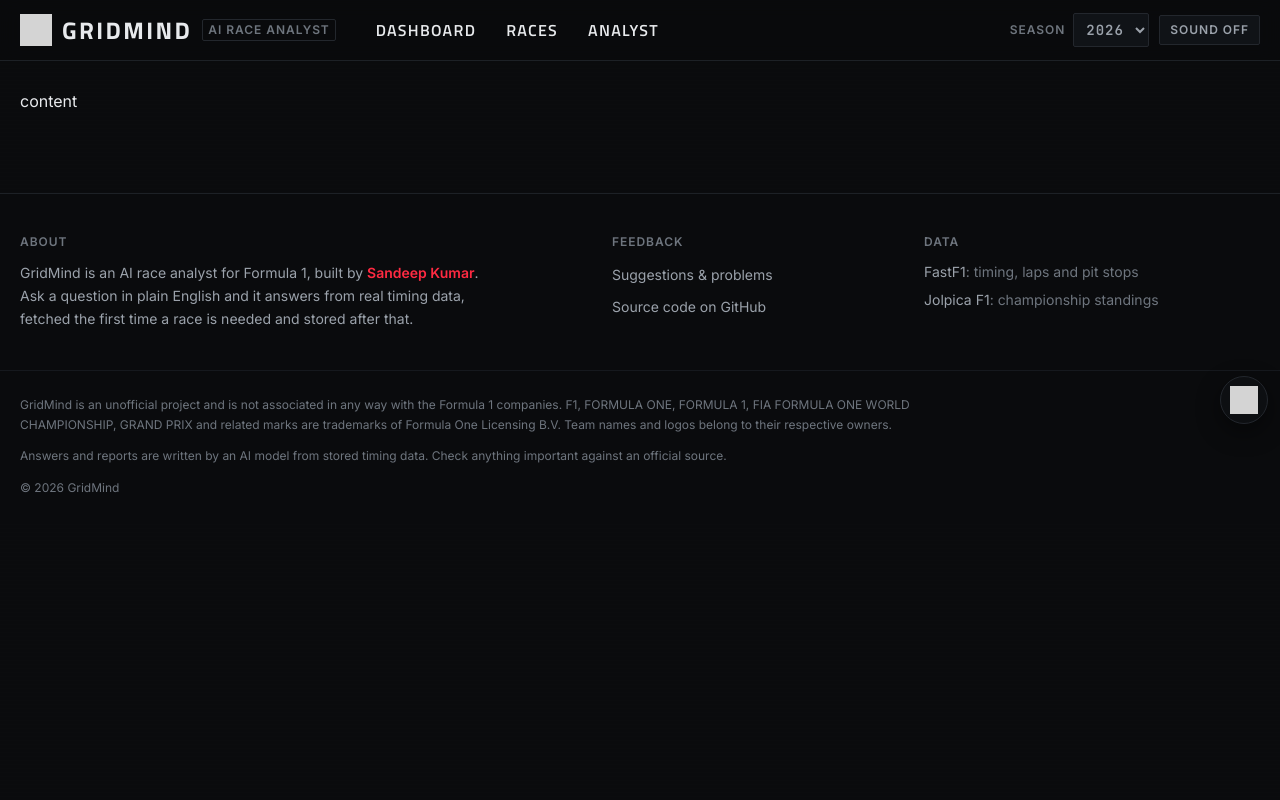
Test: AppShell › switches season and sound from the header
Select "2021" in the dropdown at point(1111, 30), box [1073,13,1149,47]
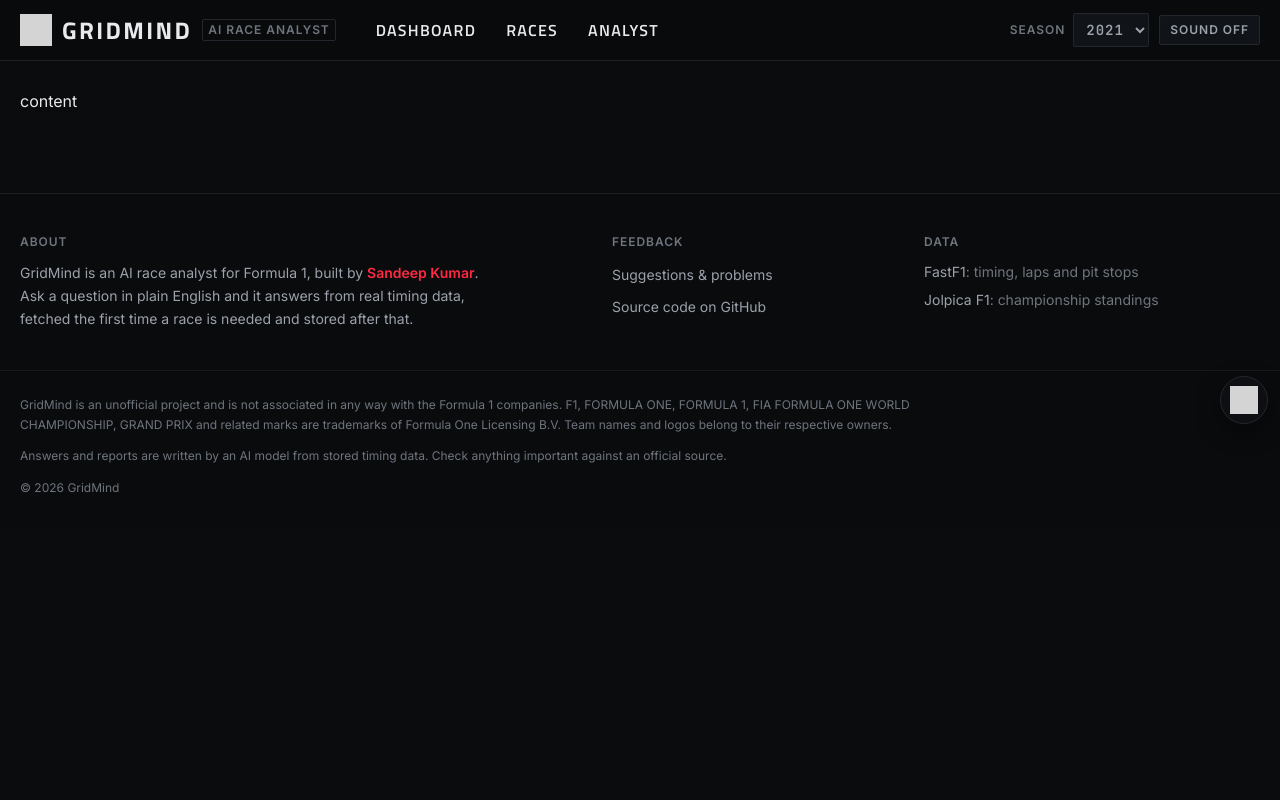
Click the button "SOUND OFF" at point(1210, 30), box [1159,15,1260,45]
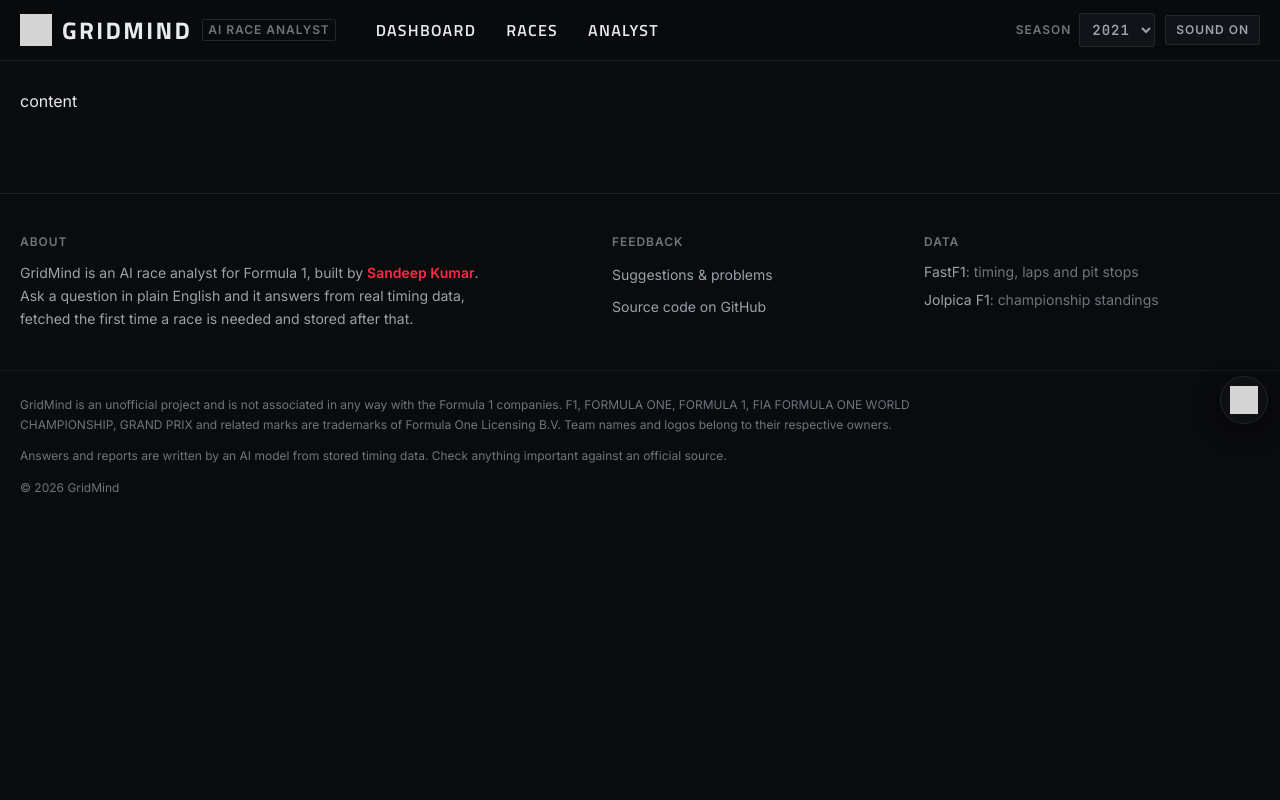
expect the text "content" is shown: met, box [20,91,77,111]
expect the button "SOUND ON" is shown: met, box [1165,15,1260,45]
